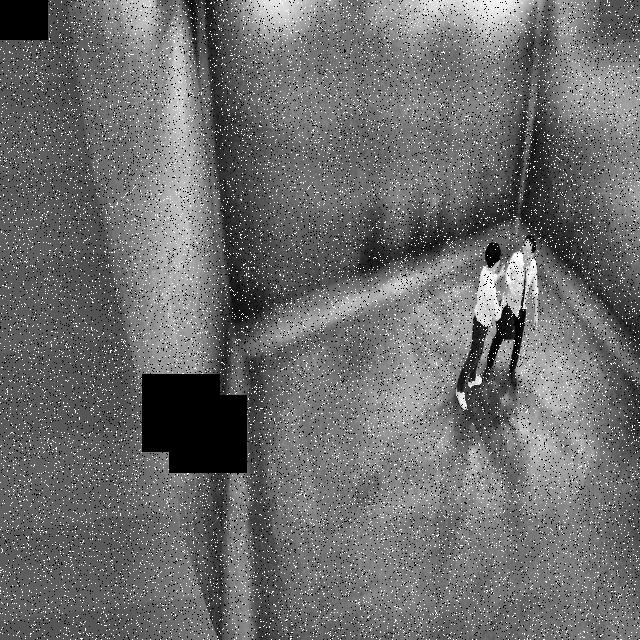assult: (452, 216, 540, 418)
